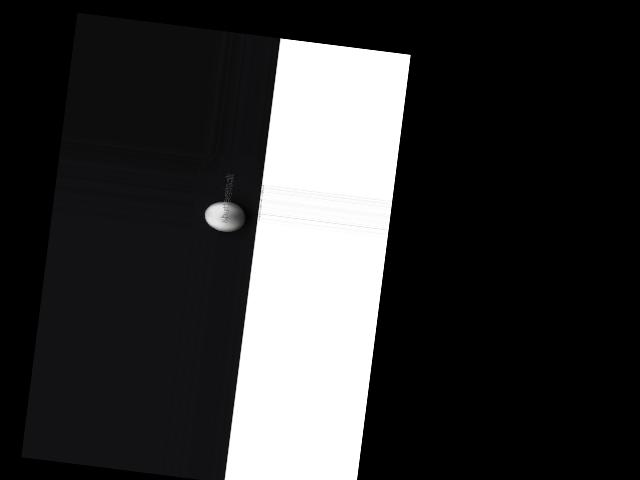egg: (202, 199, 247, 234)
